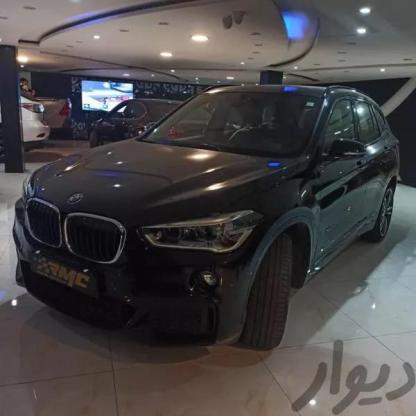Car: (2, 87, 416, 362), (81, 91, 204, 148), (14, 92, 53, 152)
